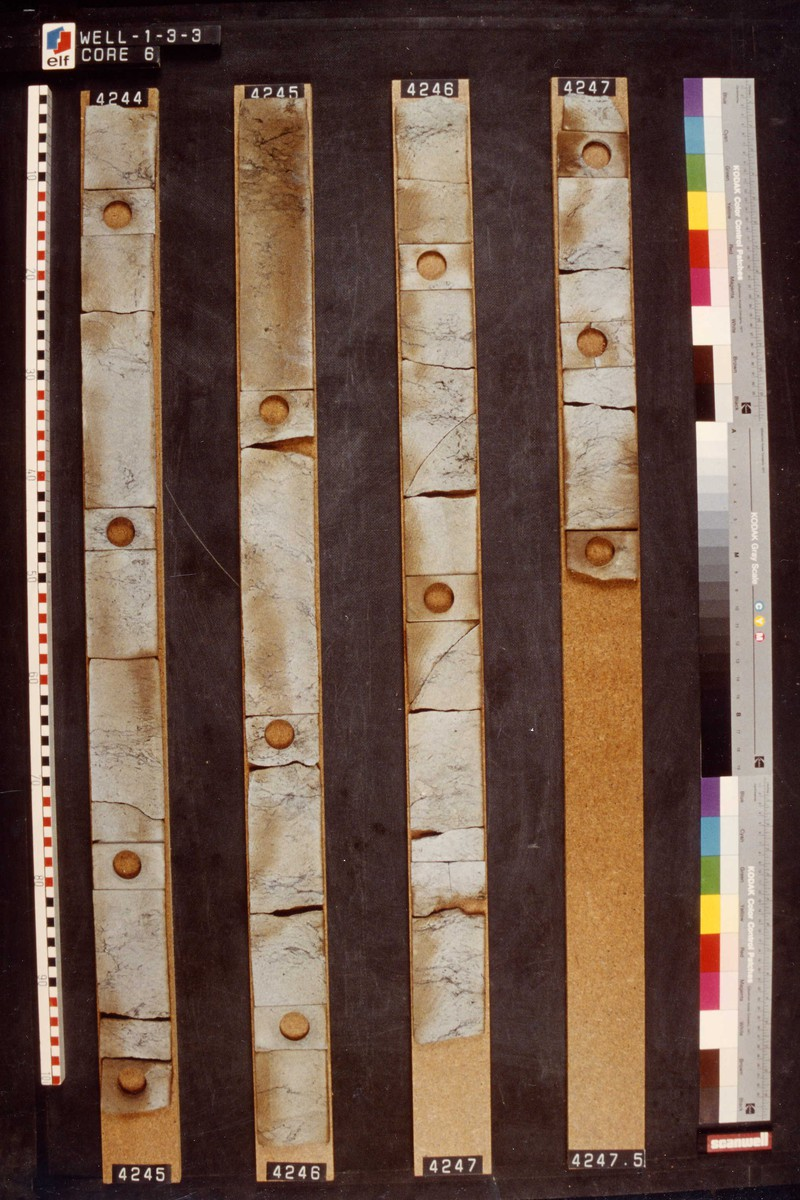core: (233, 96, 329, 1154), (82, 106, 173, 1119), (391, 99, 488, 1043), (552, 93, 640, 588)
